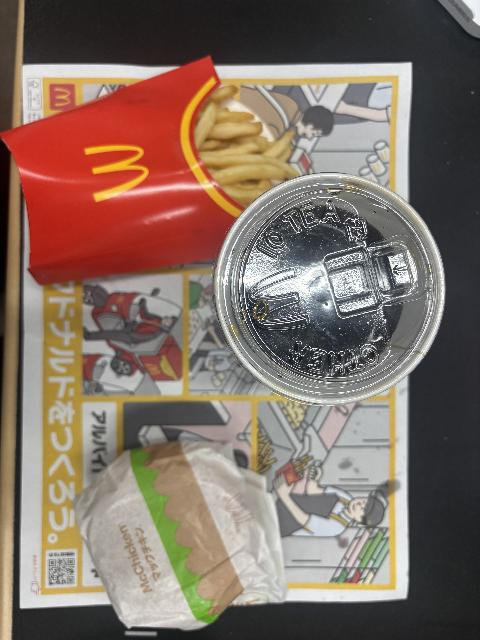burger: (71, 440, 287, 629)
drink: (211, 172, 448, 408)
fries: (0, 55, 299, 284)
